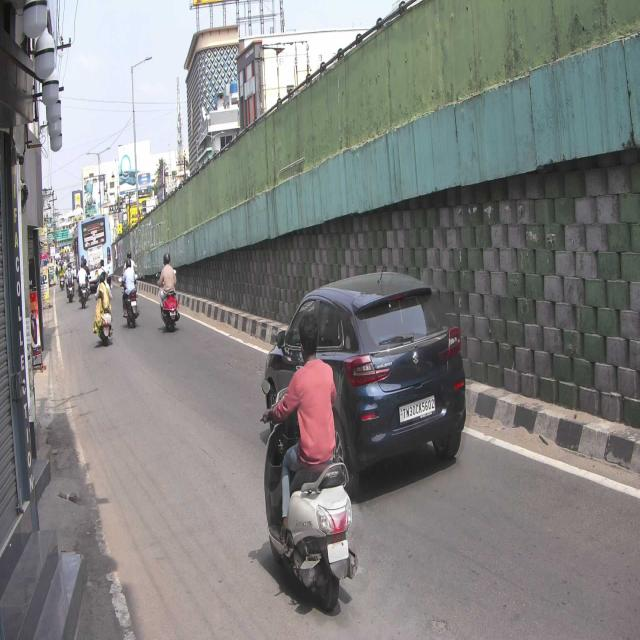single_rider: (258, 307, 359, 611)
